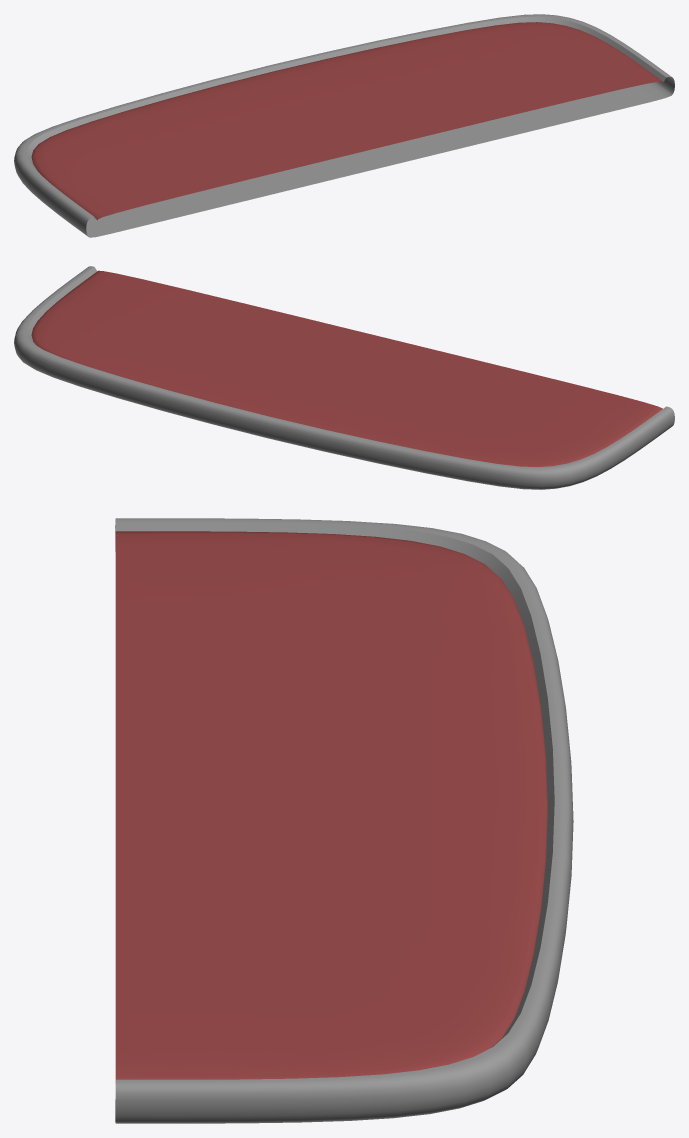
The model's file is Deck.fbx.
3 renders of one model, top to bottom at view 1: azimuth 30°, elevation 25°; view 2: azimuth 150°, elevation 25°; view 3: azimuth 270°, elevation 25°, orthographic. The views are drawn at different scales.
Parts seen in each view (by area): view 1: Box001; view 2: Box001; view 3: Box001.
Part boxes in pixels (bbox=[...]): Box001: bbox=[14, 14, 674, 237]; Box001: bbox=[14, 266, 674, 489]; Box001: bbox=[115, 518, 573, 1123].
Size of the model in its own units: 241 by 8.1 by 81.19.
